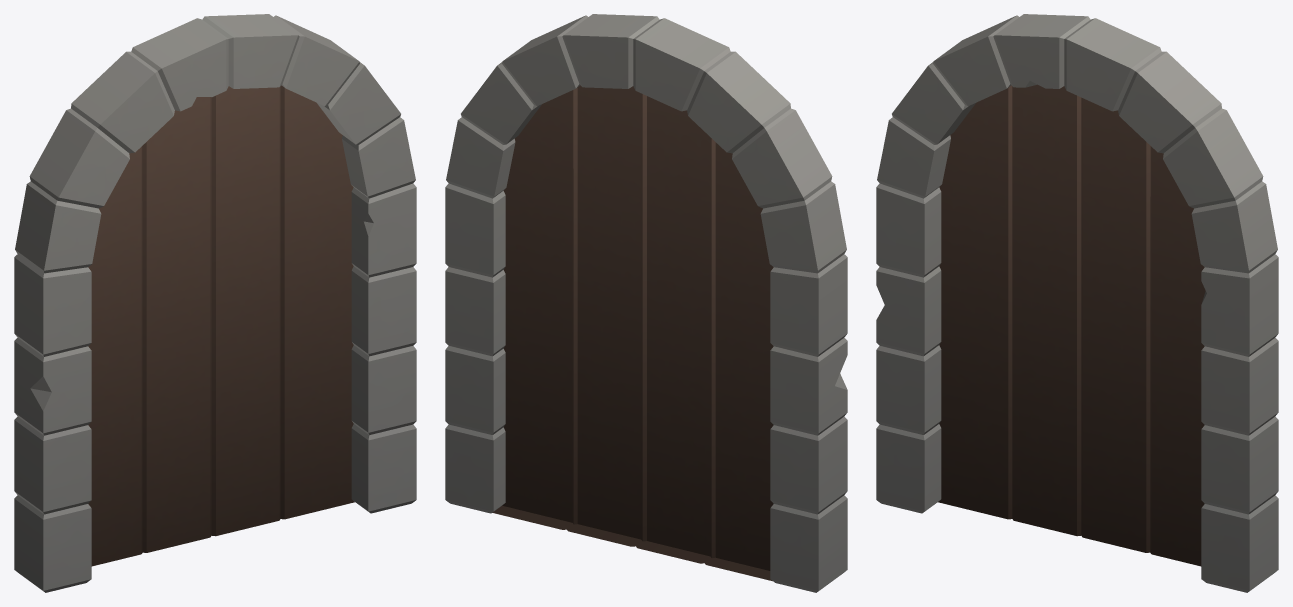
File: Door.fbx
3 views of the same model, side by side, from view 1: azimuth 30°, elevation 25°; view 2: azimuth 150°, elevation 25°; view 3: azimuth 330°, elevation 25° (orthographic).
Parts seen in each view (by area): view 1: Cylinder.001; view 2: Cylinder.001; view 3: Cylinder.001.
Part boxes in pixels (box(x1,y1,x2,y2)): Cylinder.001: box(14, 14, 416, 592); Cylinder.001: box(445, 14, 847, 592); Cylinder.001: box(876, 14, 1278, 592).
Bounding box in the file's own units: 3.87 × 5.06 × 0.5206.
